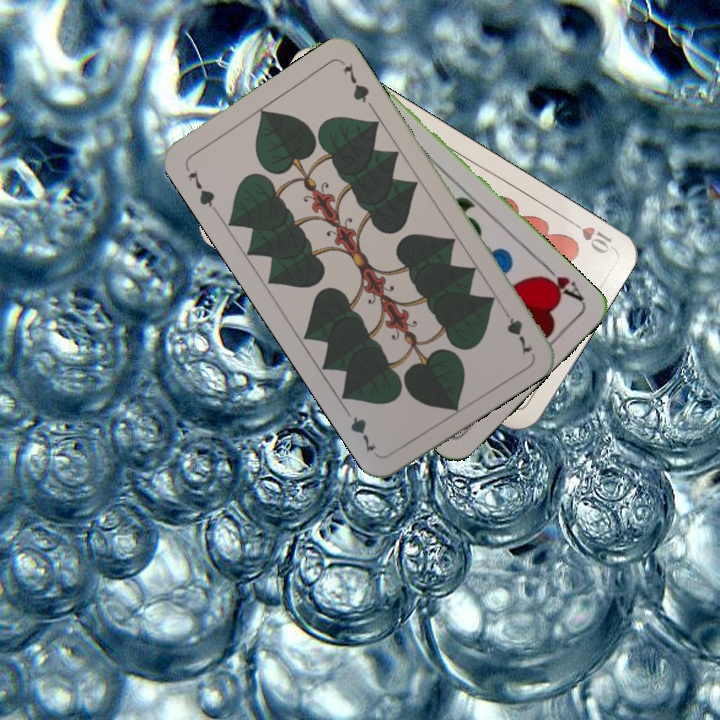G7: (497, 302, 536, 358), (184, 166, 220, 215)
H10: (563, 214, 615, 257)
HA: (535, 259, 587, 305)
